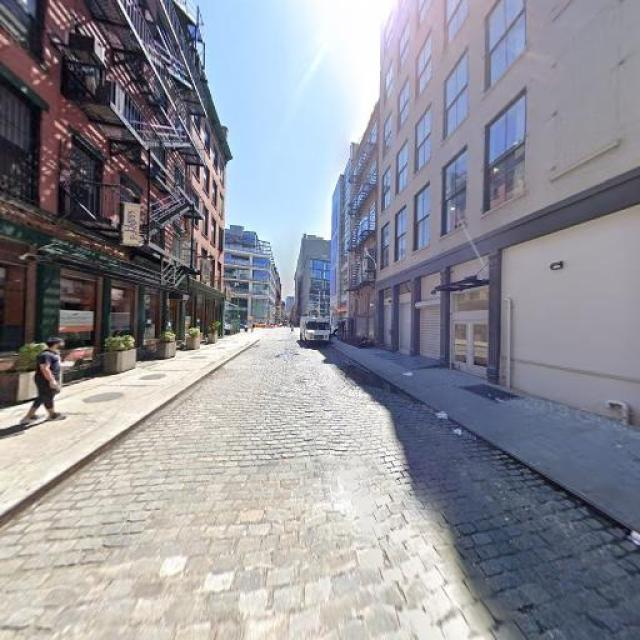Building: (379, 1, 640, 424), (1, 1, 222, 393)
